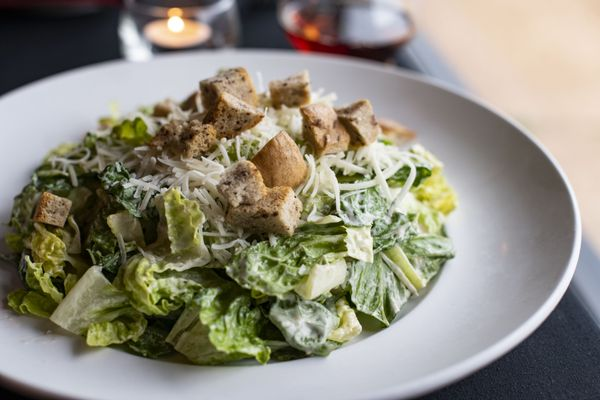curry: (9, 2, 598, 394)
